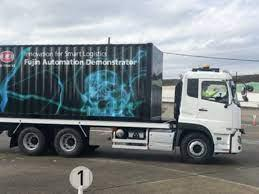truck: (0, 43, 243, 165)
